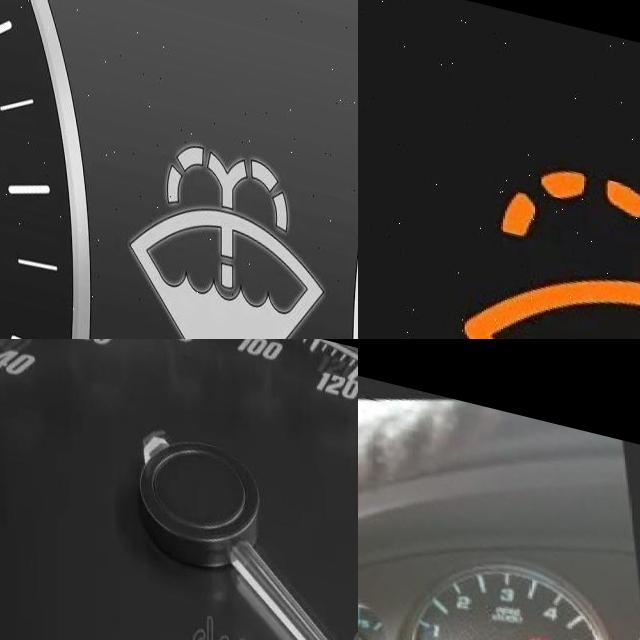Washer Fluid: (129, 118, 324, 339), (463, 134, 640, 339)
